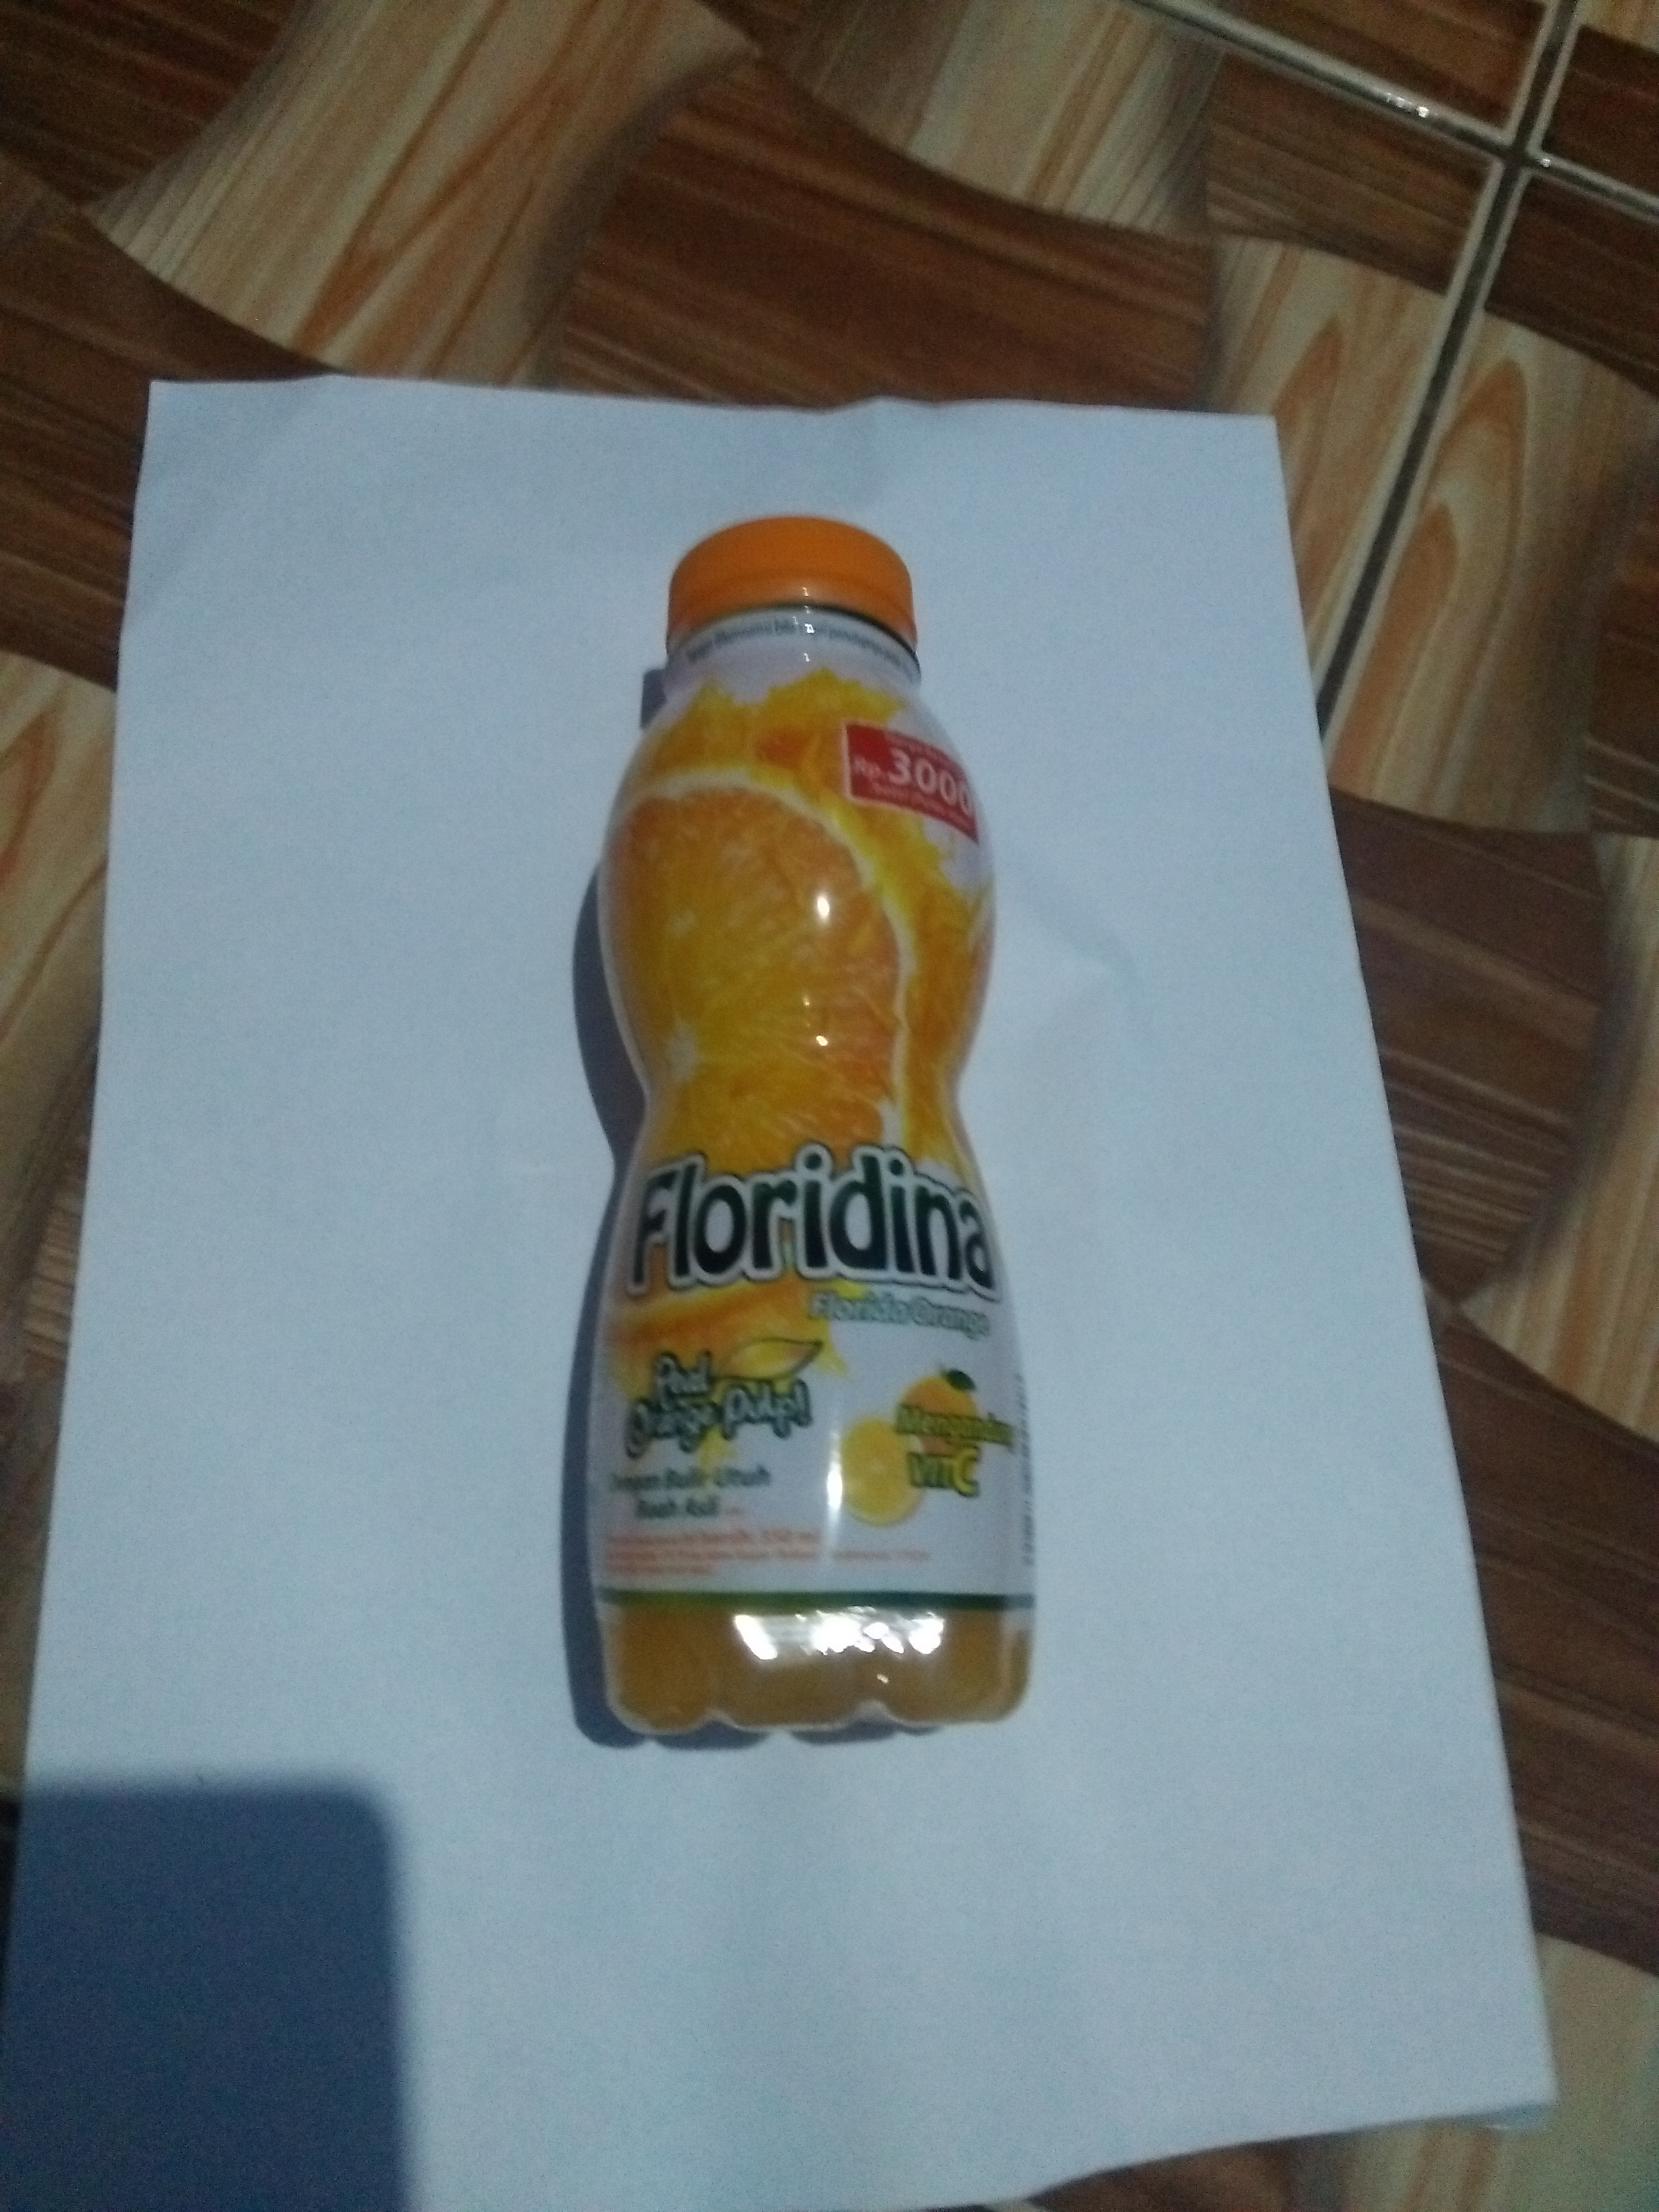Floridina: (556, 505, 1086, 1768)
